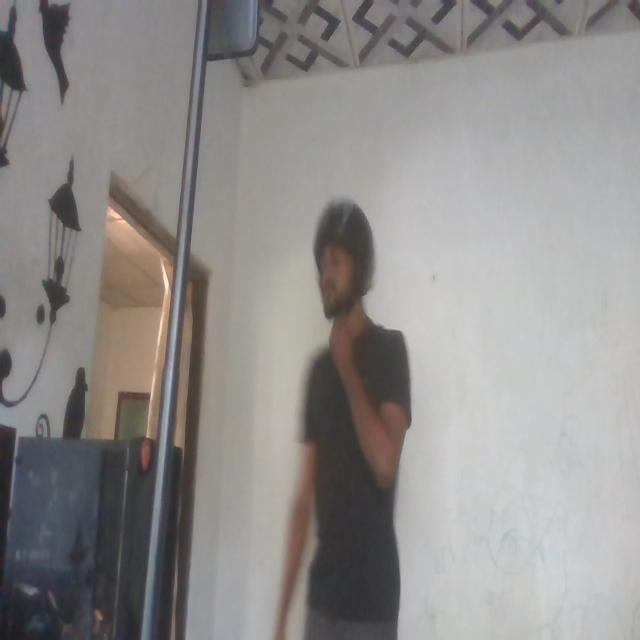Helmet_Wearer: (303, 189, 385, 360)
Person: (288, 180, 412, 640)
